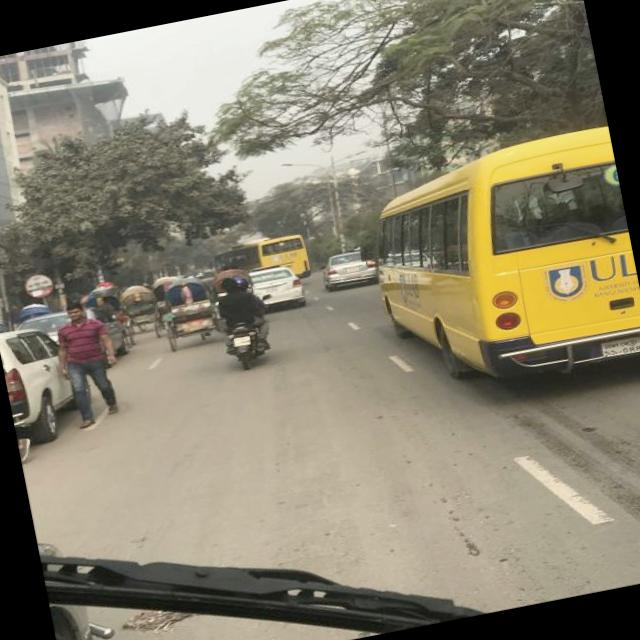bus: (341, 121, 640, 415), (200, 226, 310, 285)
car: (0, 310, 102, 450), (13, 294, 138, 372), (238, 258, 310, 314), (318, 241, 384, 296)
motorcycle: (212, 269, 284, 379), (151, 271, 230, 355), (115, 284, 163, 346), (144, 274, 188, 328), (1, 296, 49, 328), (79, 286, 128, 314)
